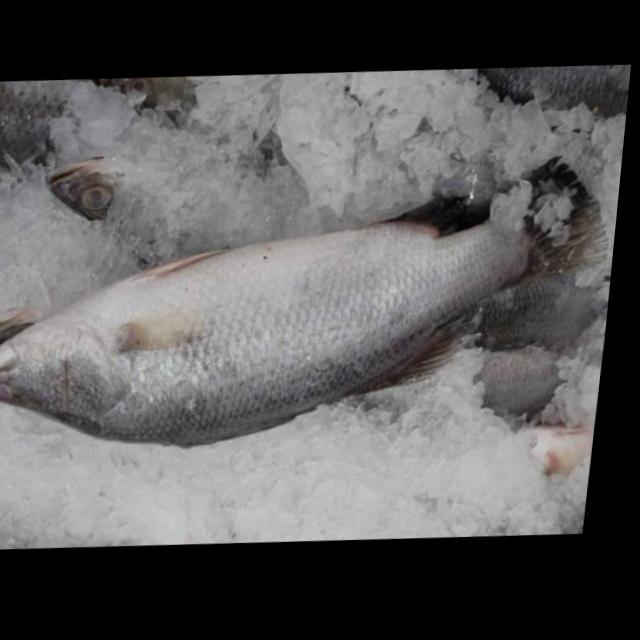Seabass: (0, 141, 614, 462)
